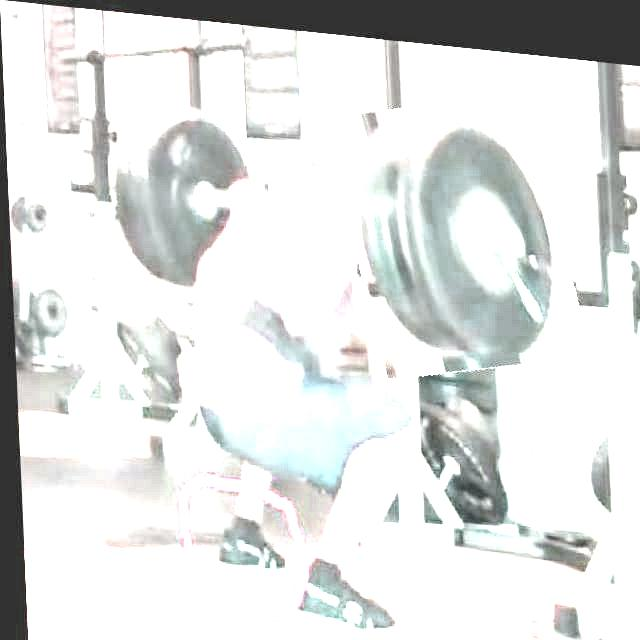barbell: (334, 79, 579, 377)
